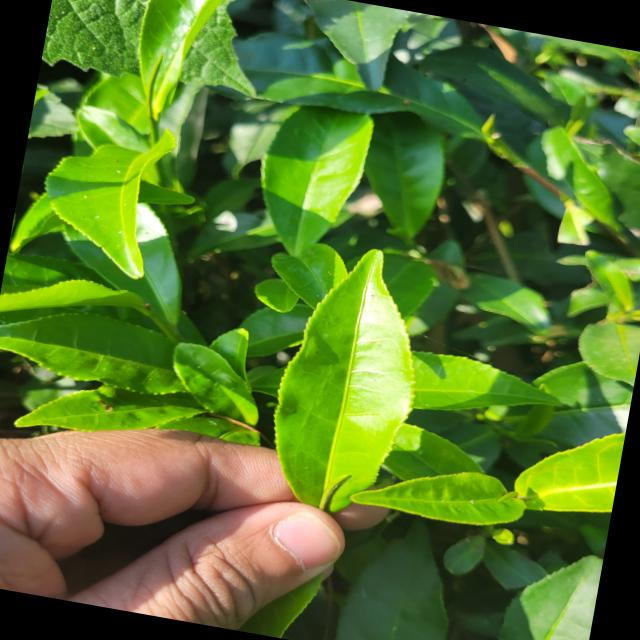Catagory A(1-2 days): (353, 447, 548, 546)
